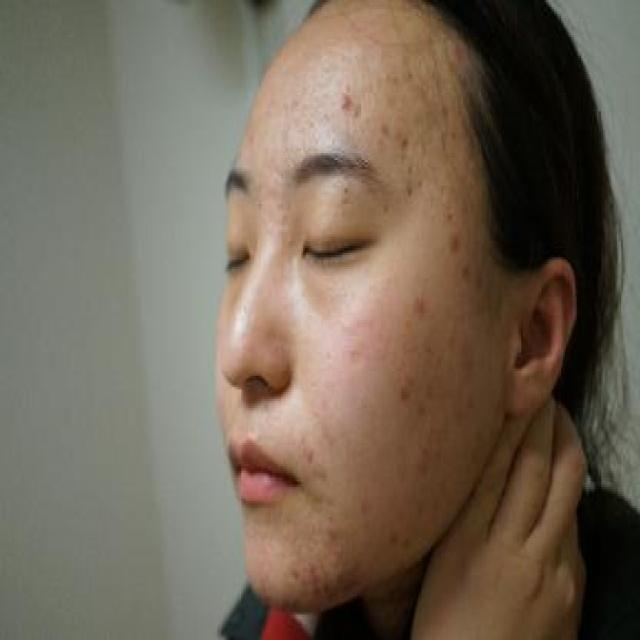dark spot: (397, 276, 438, 325), (383, 360, 423, 410), (435, 216, 474, 260), (392, 130, 423, 153), (380, 116, 394, 153)
papules: (328, 88, 358, 125)
